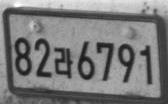1: (137, 44, 157, 85)
2: (34, 37, 52, 77)
6: (76, 40, 95, 81)
7: (95, 41, 114, 81)
8: (13, 36, 32, 77)
9: (116, 42, 135, 83)
라: (53, 46, 73, 79)
